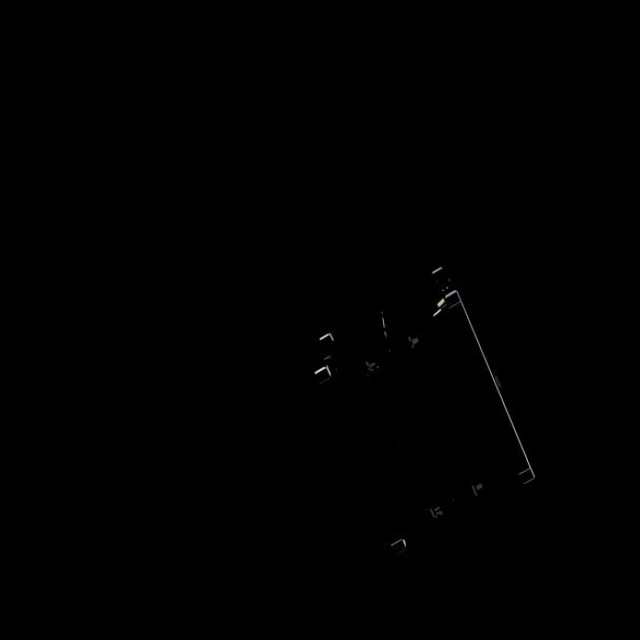medium_debris: (278, 262, 537, 560)
